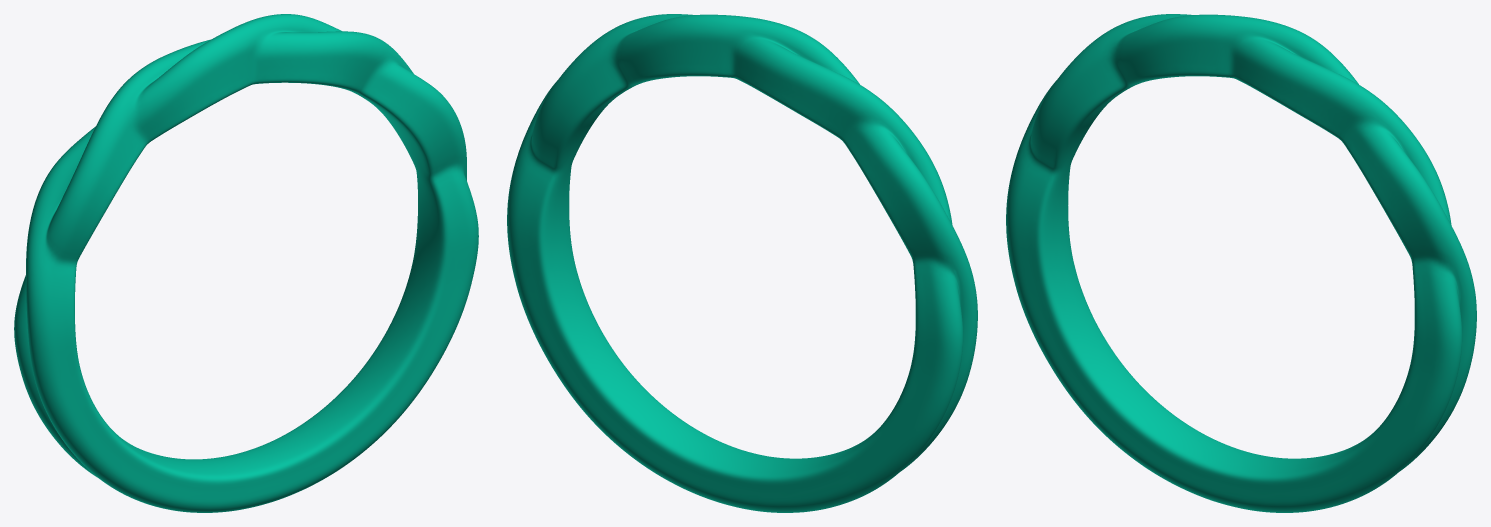
Rendered from BE2M56D_RENDER.glb.
The picture shows the model from 3 angles, left to right: view 1: azimuth 30°, elevation 25°; view 2: azimuth 150°, elevation 25°; view 3: azimuth 330°, elevation 25°; orthographic projection.
Visible parts, largest first — view 1: Metal03; view 2: Metal03; view 3: Metal03.
Boxes of the visible parts, bbox=[...] form: Metal03: bbox=[14, 14, 478, 512]; Metal03: bbox=[507, 14, 977, 512]; Metal03: bbox=[1006, 14, 1476, 512].
Bounding box in the file's own units: 20.44 × 20.79 × 2.45.
